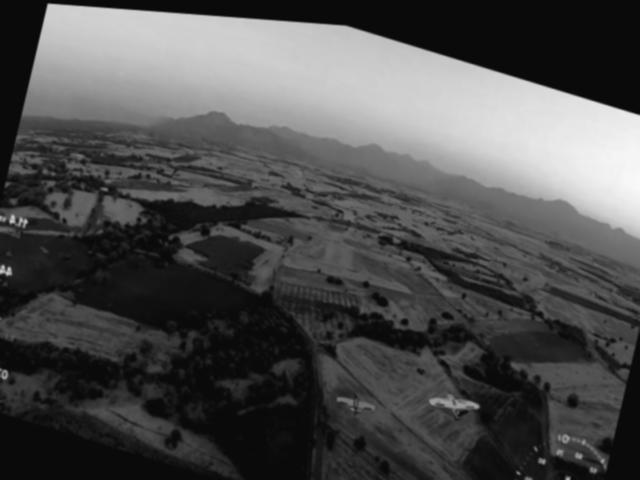hedef: (417, 367, 492, 427), (329, 375, 382, 421)
